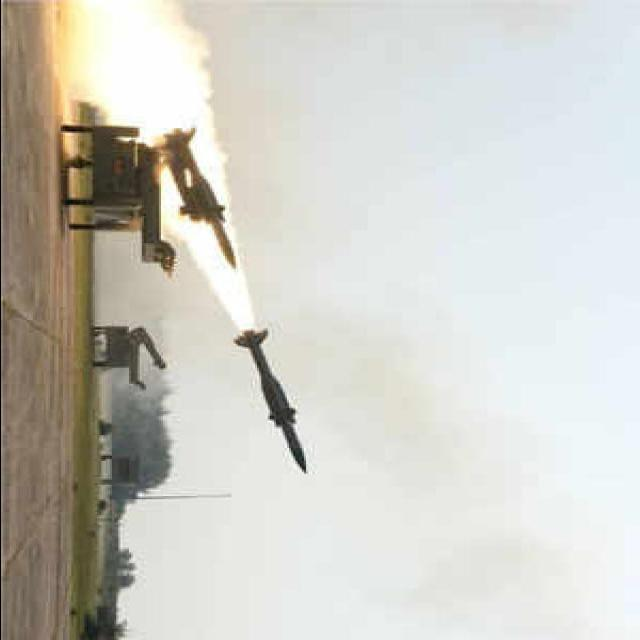missile: (226, 325, 322, 486)
